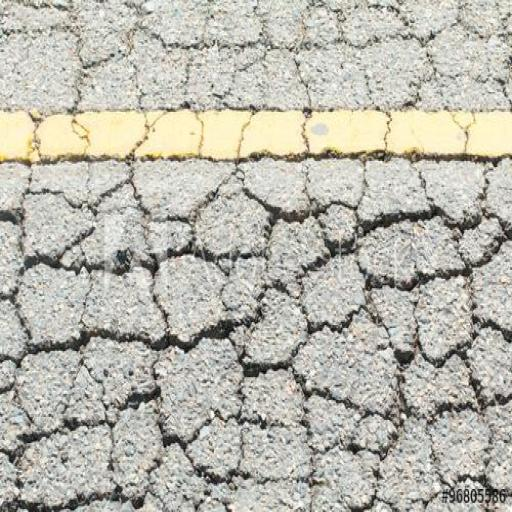hole: (166, 316, 235, 359), (364, 202, 446, 238), (261, 198, 308, 221), (243, 364, 274, 384)
